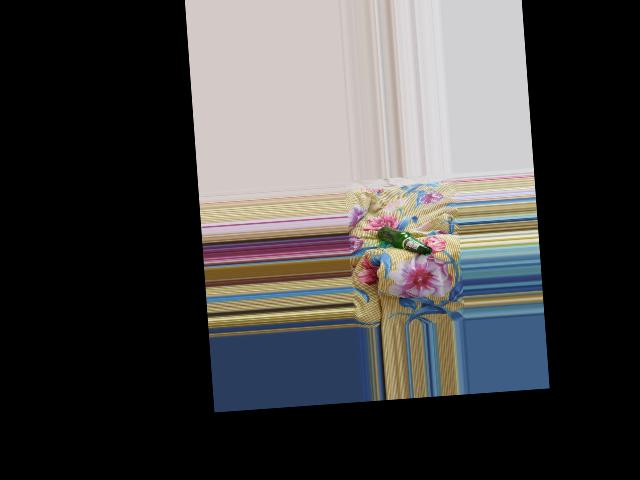beer: (377, 223, 432, 259)
